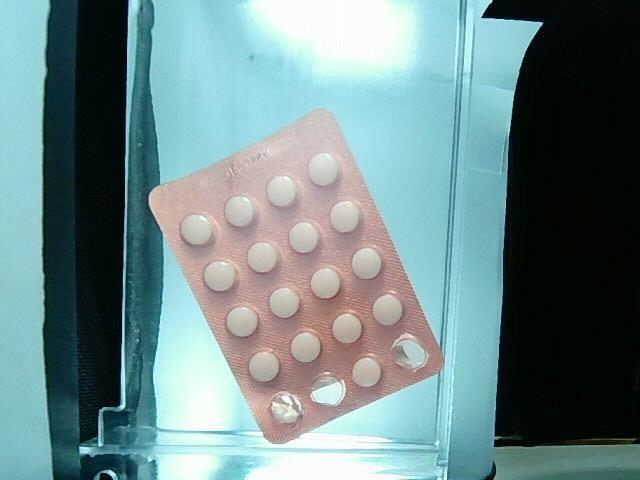Light Front: (149, 110, 442, 443)
No Pill Front: (393, 333, 428, 372), (270, 391, 303, 425), (311, 373, 344, 406)
Pill Front: (308, 153, 341, 186), (180, 214, 215, 245), (373, 293, 405, 326), (266, 175, 298, 207), (204, 260, 237, 291), (351, 246, 382, 279), (225, 305, 258, 336), (249, 350, 280, 382), (289, 221, 320, 252), (225, 196, 255, 227), (248, 243, 279, 273), (310, 268, 341, 298), (333, 313, 363, 344), (291, 331, 321, 362), (270, 288, 300, 318), (353, 355, 381, 387), (331, 201, 359, 232)
